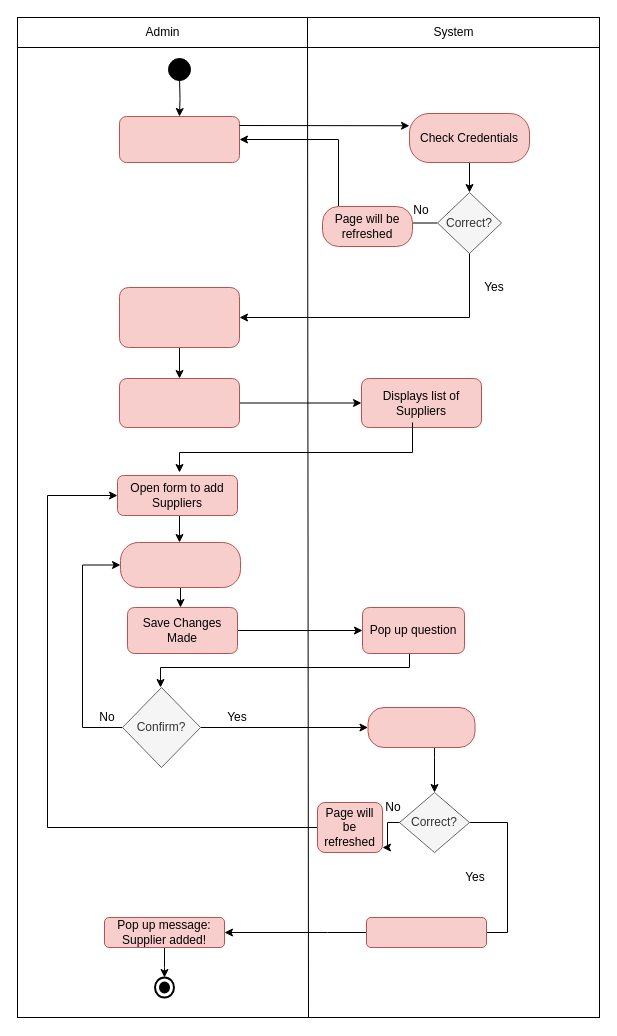
This 617x1036 diagram has some shape labels left out. The shapes that lost their labels are listed below. From the top down, each one's centre as x and y in pixels, then its label:
the point at 179,139: Admin enters username and password
the point at 179,317: Admin successfully logged in
the point at 179,403: Open Suppliers Dashboard
the point at 180,565: Fill in the information
the point at 421,727: Validation check
the point at 426,932: Update database
